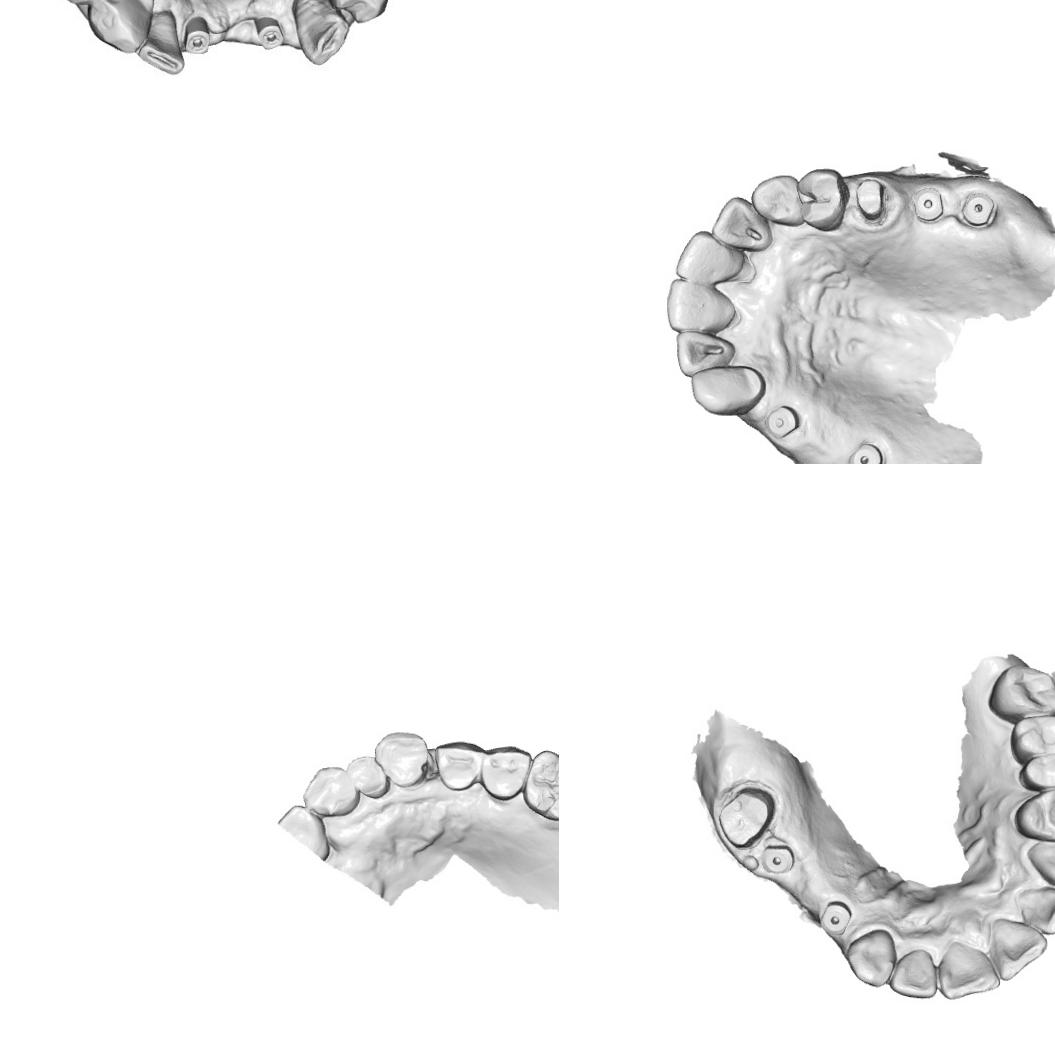canine: (287, 0, 352, 69), (689, 363, 765, 418), (372, 730, 430, 789), (134, 12, 184, 77), (844, 926, 896, 988), (749, 171, 805, 228), (1026, 838, 1055, 889)
crown: (716, 782, 778, 850), (852, 175, 890, 224)
implant: (912, 184, 948, 226), (960, 190, 997, 228), (764, 404, 800, 441), (758, 842, 796, 876), (818, 899, 852, 936), (846, 441, 885, 464)
implant_plus: (254, 12, 288, 52), (186, 11, 216, 56)
incisor: (937, 938, 1002, 1002), (672, 229, 747, 284), (663, 279, 738, 334), (989, 916, 1048, 983), (710, 194, 774, 254), (672, 330, 738, 379), (302, 765, 361, 819), (888, 947, 938, 1000), (346, 754, 391, 799), (1016, 886, 1055, 936)
molar: (987, 662, 1055, 723), (521, 748, 559, 822), (1009, 713, 1055, 763)
premolar: (793, 166, 851, 233), (84, 0, 153, 54), (480, 744, 532, 800), (432, 738, 482, 792), (1013, 787, 1055, 843), (323, 0, 390, 26), (1017, 751, 1055, 790)
